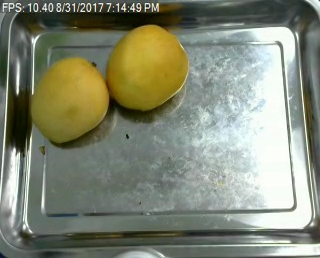Mango: (30, 54, 115, 144), (107, 19, 187, 112)
